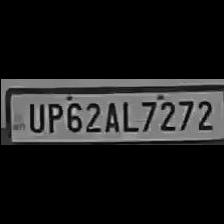2: (192, 97, 214, 131), (155, 97, 175, 132), (82, 98, 100, 134)
6: (62, 99, 82, 133)
7: (136, 97, 156, 133), (175, 97, 193, 131)
A: (100, 98, 119, 134)
L: (118, 97, 138, 133)
P: (43, 100, 61, 134)
U: (23, 100, 44, 132)
